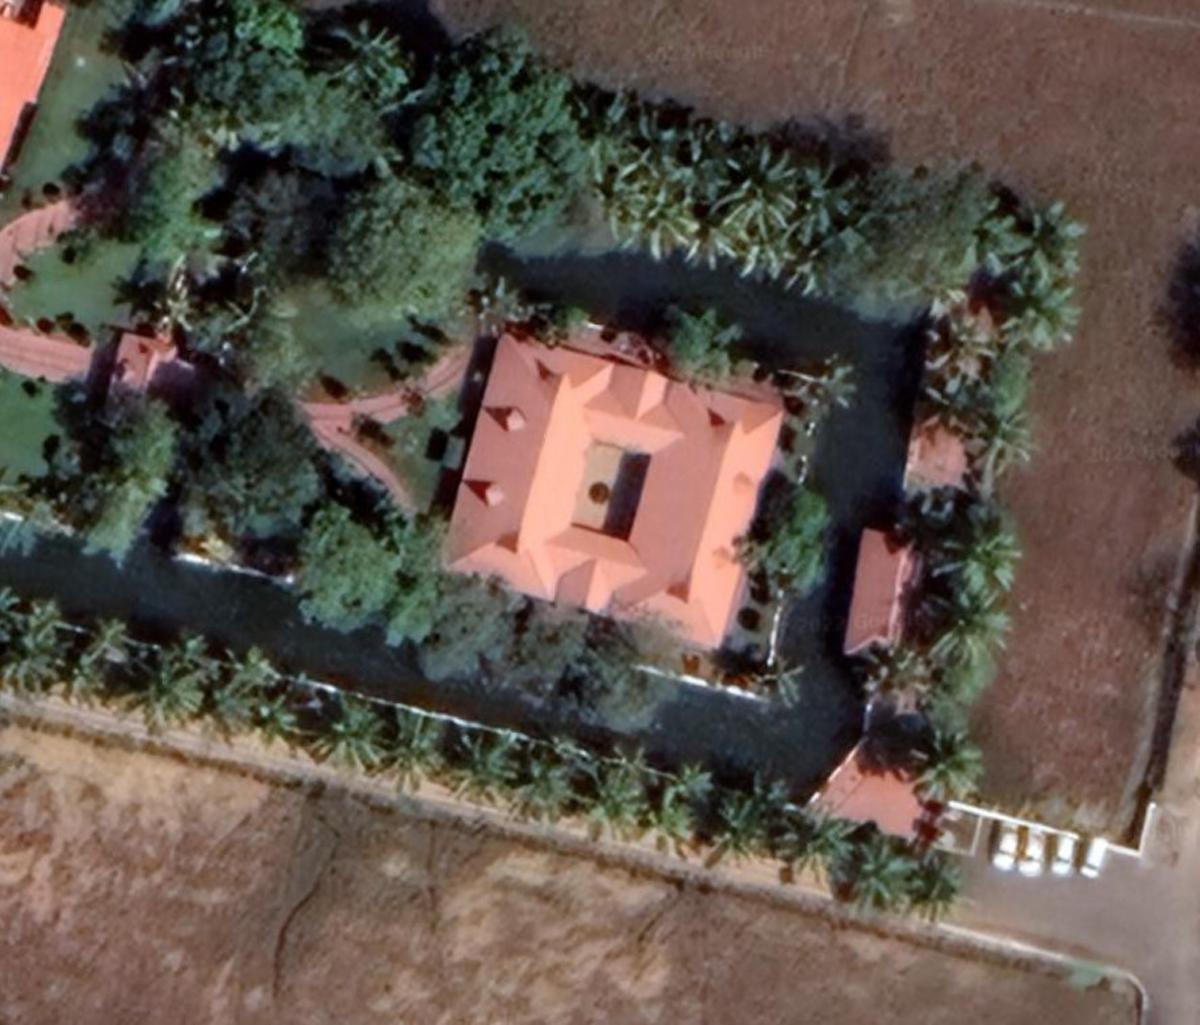coconut: (1001, 202, 1109, 301), (926, 504, 1026, 608), (315, 13, 409, 105), (298, 677, 386, 774), (922, 589, 1006, 682), (909, 719, 986, 820), (710, 140, 792, 228), (1009, 294, 1087, 382), (515, 749, 589, 842), (376, 703, 449, 793), (453, 731, 526, 820), (581, 764, 650, 849), (918, 297, 994, 373), (129, 662, 206, 736), (914, 369, 991, 440), (779, 808, 846, 885), (842, 827, 895, 920), (462, 277, 535, 342), (967, 412, 1032, 484), (711, 791, 761, 885), (625, 190, 689, 258), (886, 855, 952, 920), (784, 351, 848, 417), (243, 681, 307, 743), (71, 611, 132, 673), (756, 649, 815, 713)
